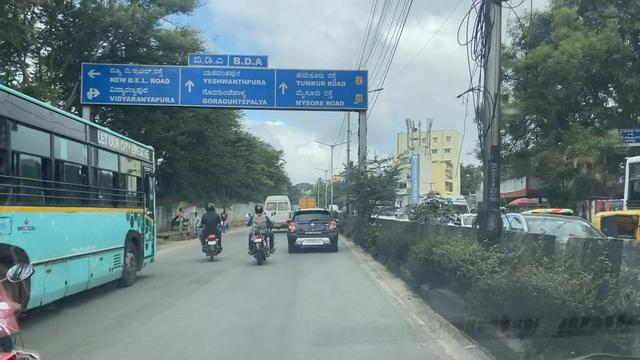LMV: (291, 207, 339, 252), (251, 206, 270, 263), (200, 205, 219, 254)
